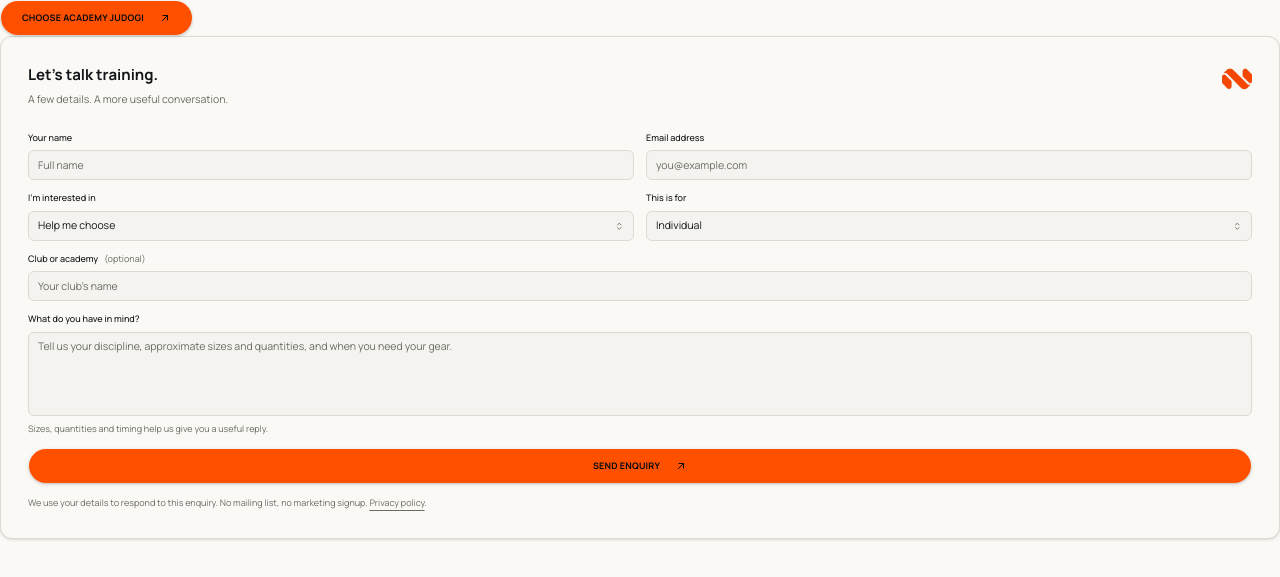
Test: inline enquiry form › shows useful validation and does not submit an empty form
Click the button "Send enquiry" at coordinates (640, 466), box [28,448,1252,484]
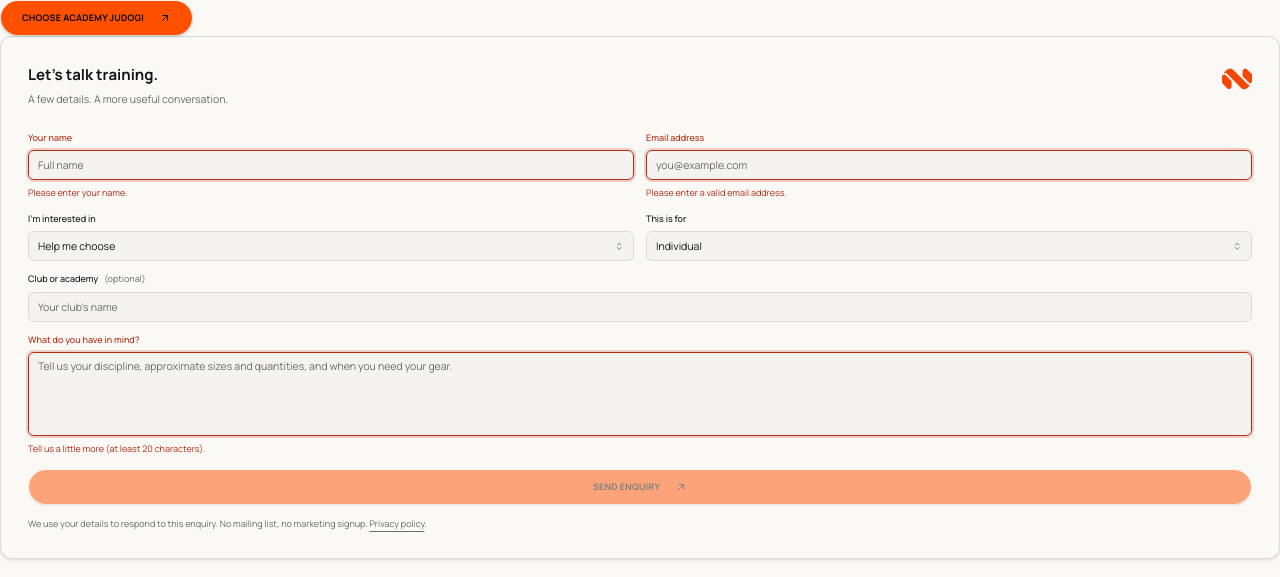
Check: the text "Please enter your name." is shown, box [28,186,127,199]
Check: the text "Please enter a valid email address." is shown, box [646,186,787,199]
